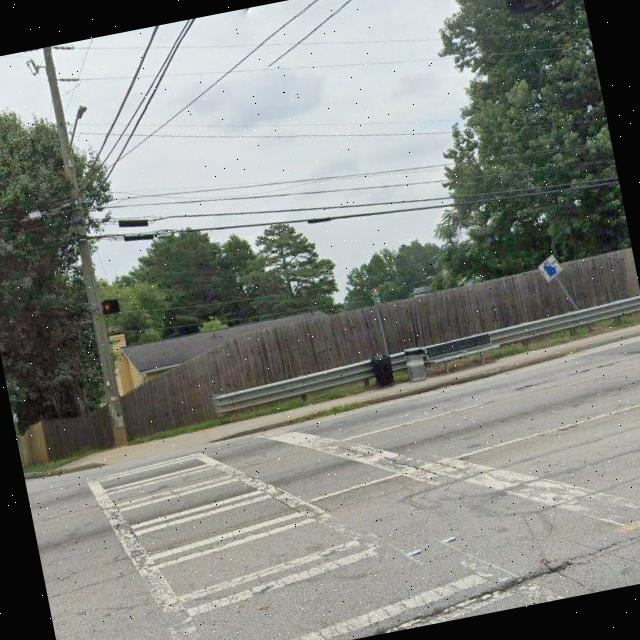seating: (422, 331, 504, 378)
trash_can: (370, 353, 396, 387), (404, 351, 428, 383)
